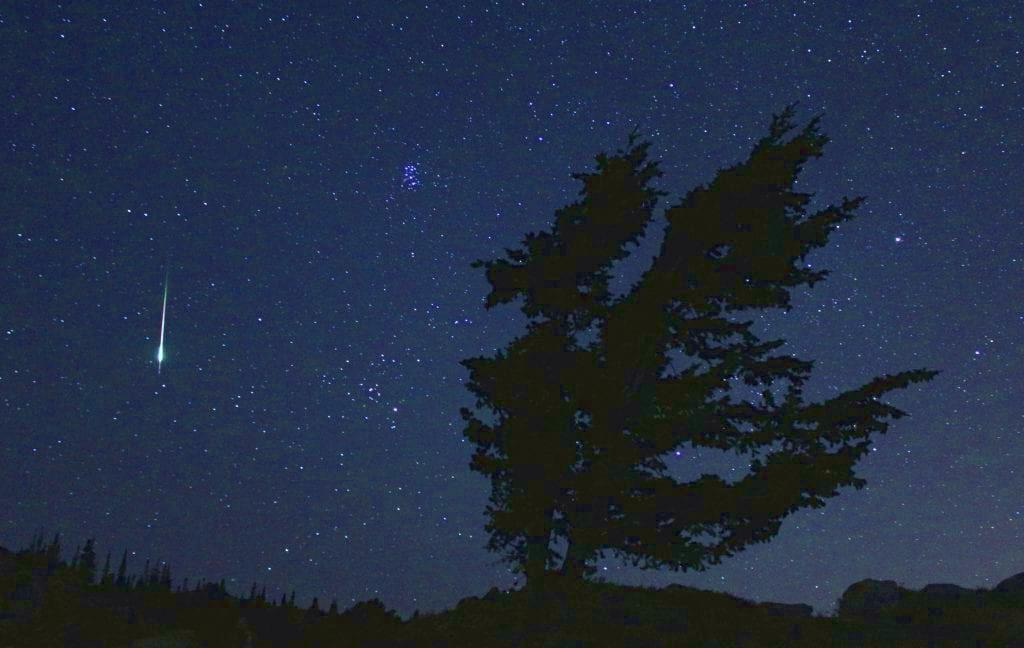meteorite: (144, 258, 181, 391)
